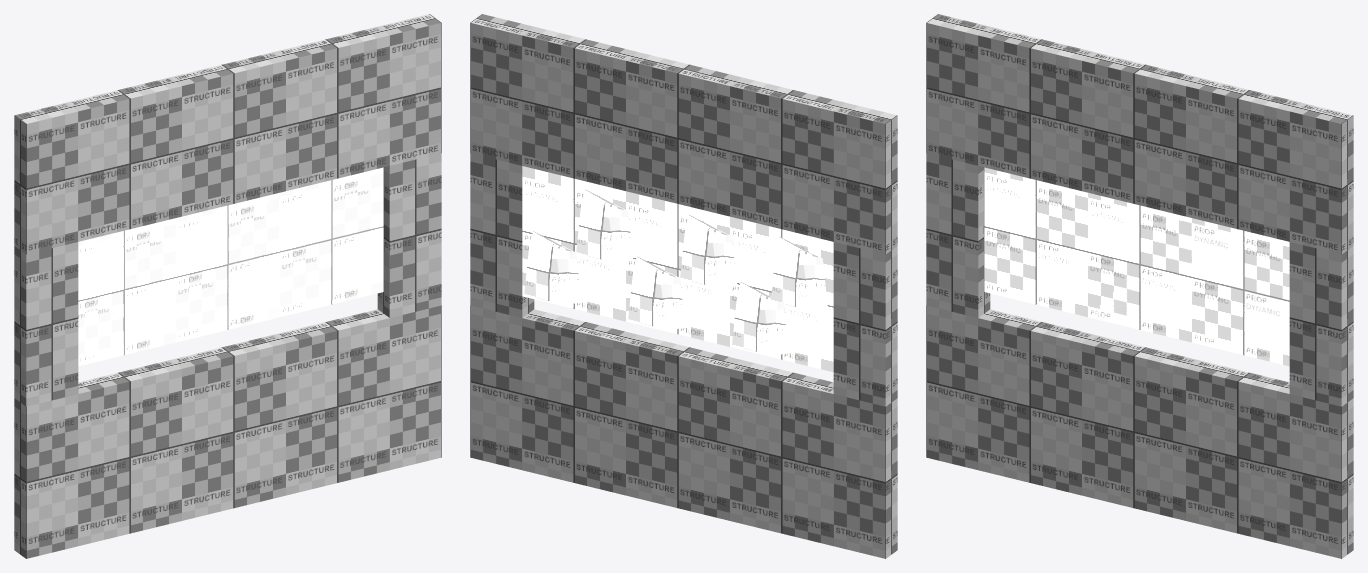
Rendered from JMB_WindowWalls.fbx.
The picture shows the model from 3 angles, left to right: view 1: azimuth 30°, elevation 25°; view 2: azimuth 150°, elevation 25°; view 3: azimuth 330°, elevation 25°; orthographic projection.
Parts seen in each view (by area): view 1: WindowW_Bottom, WindowW_Top, WindowW_Window, WW_Damaged, WindowW_Side__1_, WindowW_Side; view 2: WindowW_Bottom, WindowW_Top, WindowW_Window, WindowW_Side__1_, WindowW_Side, Glass_Shards2_0__1_, Glass_Shards2_0__6_, Glass_Shards2_0__3_, Glass_Shards2_0__2_, Glass_Shards2_0__4_, Glass_Shards2_0__5_; view 3: WindowW_Bottom, WindowW_Top, WindowW_Window, WindowW_Side, WindowW_Side__1_, WW_Damaged.
Boxes of the visible parts, <box> form: WindowW_Bottom: <box>14,305,441,558</box>; WindowW_Top: <box>14,14,441,254</box>; WindowW_Window: <box>78,167,383,366</box>; WW_Damaged: <box>212,169,376,329</box>; WindowW_Side__1_: <box>14,242,78,406</box>; WindowW_Side: <box>377,153,441,317</box>; WindowW_Bottom: <box>470,305,897,558</box>; WindowW_Top: <box>470,14,897,254</box>; WindowW_Window: <box>522,166,833,372</box>; WindowW_Side__1_: <box>833,242,897,406</box>; WindowW_Side: <box>470,153,534,317</box>; Glass_Shards2_0__1_: <box>524,231,581,304</box>; Glass_Shards2_0__6_: <box>771,237,827,310</box>; Glass_Shards2_0__3_: <box>628,256,685,329</box>; Glass_Shards2_0__2_: <box>576,189,633,262</box>; Glass_Shards2_0__4_: <box>680,215,736,288</box>; Glass_Shards2_0__5_: <box>732,282,788,355</box>; WindowW_Bottom: <box>926,305,1353,558</box>; WindowW_Top: <box>926,14,1353,254</box>; WindowW_Window: <box>984,167,1289,366</box>; WindowW_Side: <box>1289,242,1353,406</box>; WindowW_Side__1_: <box>926,153,990,317</box>; WW_Damaged: <box>1088,217,1289,356</box>.
Size of the model in its own units: 400 by 400 by 30.98.
